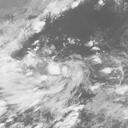cyclone: (37, 54, 90, 102)
